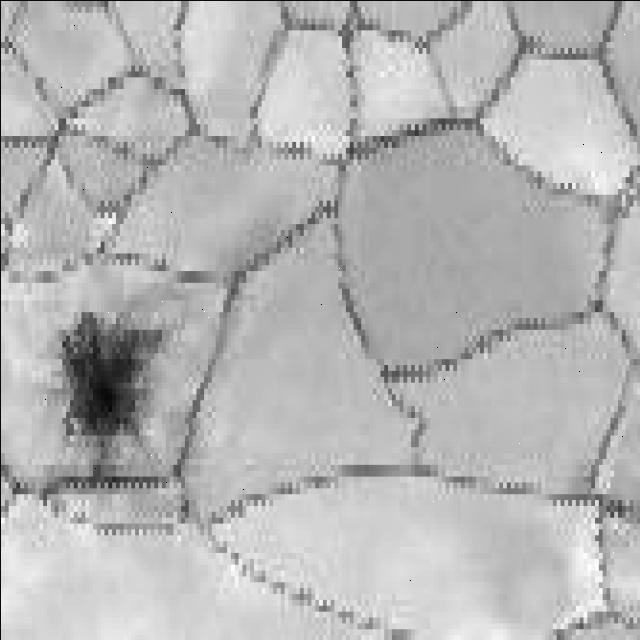good_void: (52, 308, 166, 465)
